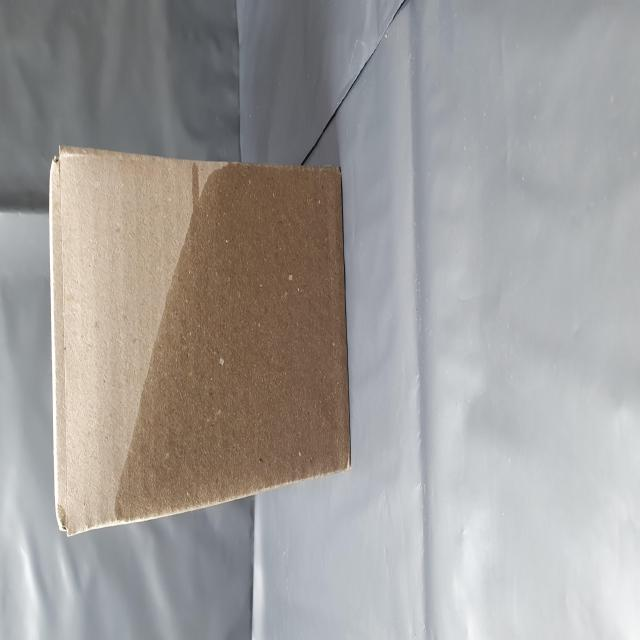wet: (66, 121, 275, 612)
